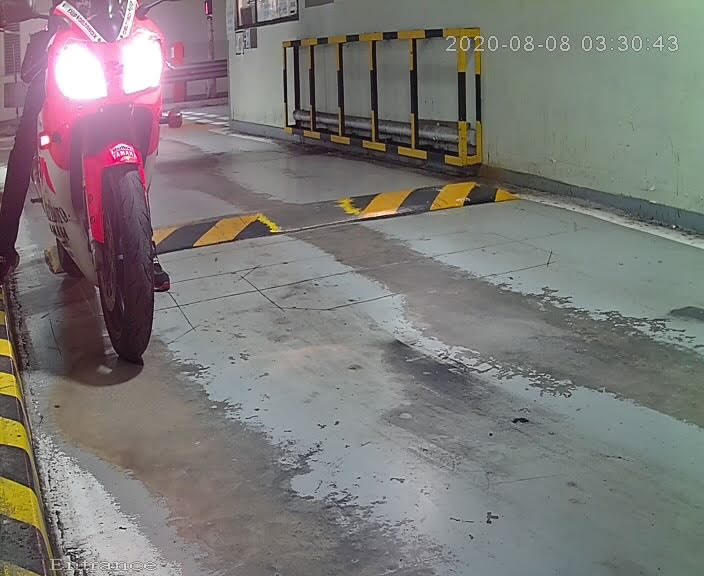motorcycle: (3, 1, 192, 363)
